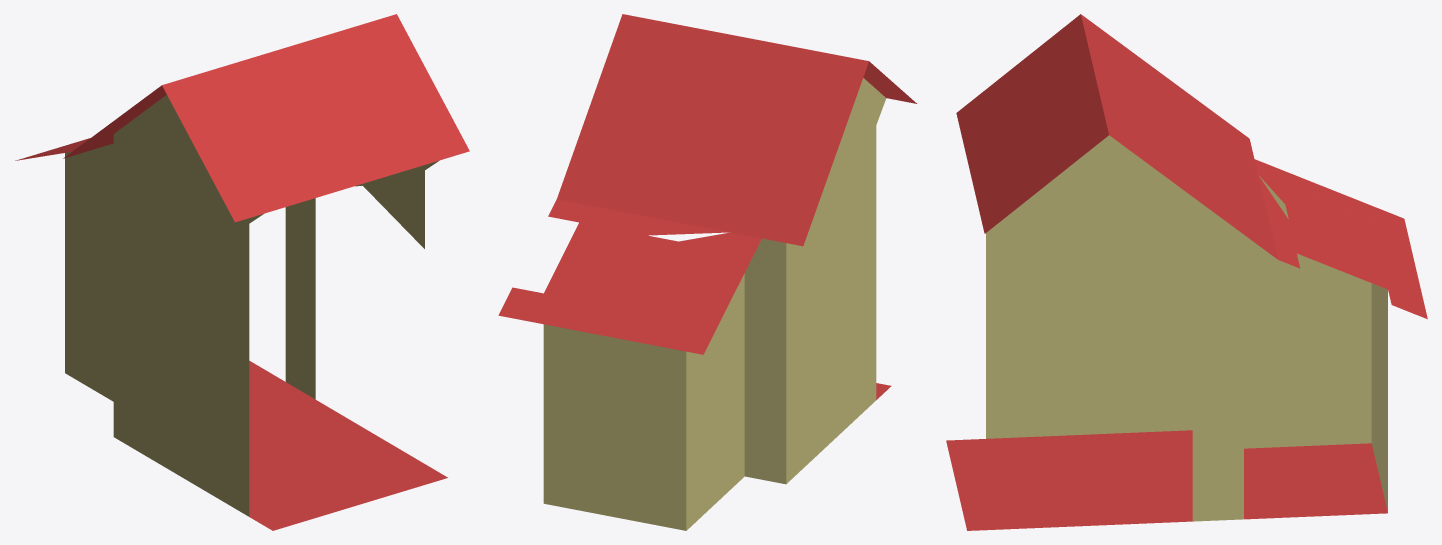
3 renders of one model, left to right at view 1: azimuth 30°, elevation 25°; view 2: azimuth 150°, elevation 25°; view 3: azimuth 270°, elevation 25°, orthographic. The views are drawn at different scales.
Bounding box in the file's own units: 8.64 × 13.2 × 12.25.
